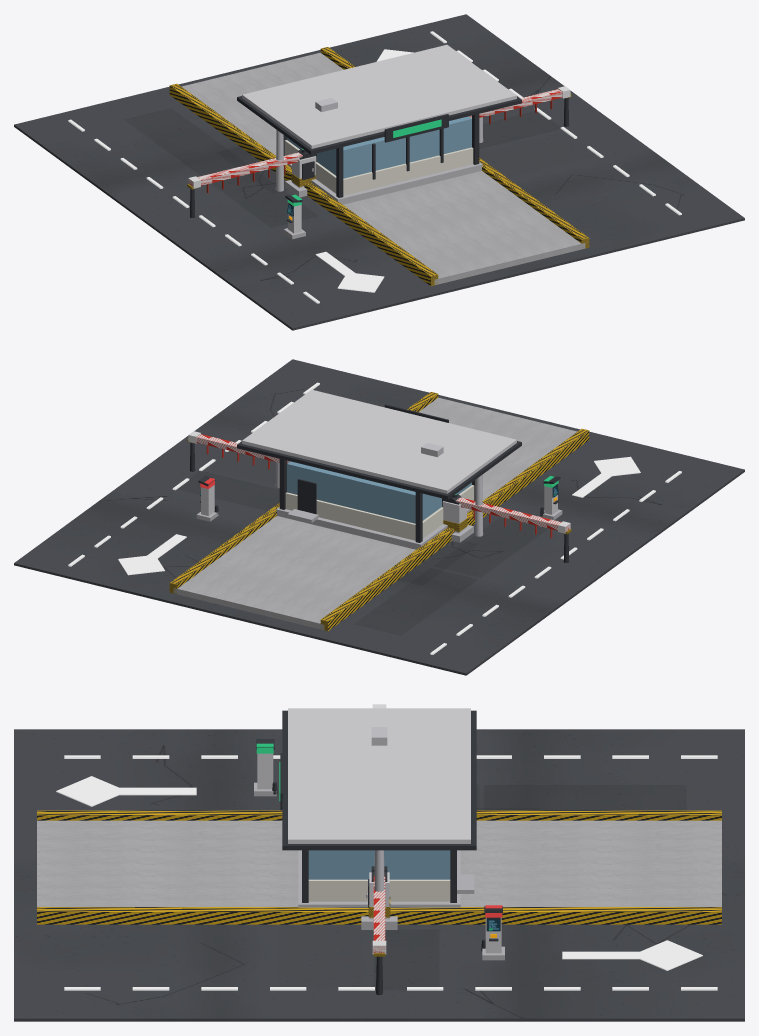
File: portaria-pack.glb
3 views of the same model, one above another, from view 1: azimuth 30°, elevation 25°; view 2: azimuth 150°, elevation 25°; view 3: azimuth 270°, elevation 25° (orthographic). The views are drawn at different scales.
Parts seen in each view (by area): view 1: object 1, object 2, object 8, object 3, object 7, object 6, object 5, object 12, object 4, object 13, object 9; view 2: object 1, object 2, object 8, object 3, object 6, object 7, object 12, object 5, object 4, object 13, object 9; view 3: object 1, object 2, object 8, object 3, object 12, object 7, object 6, object 5, object 4, object 13, object 9.
Part boxes in pixels (<box>): object 1: <box>14,14,744,330</box>; object 2: <box>181,52,585,284</box>; object 8: <box>242,44,516,233</box>; object 3: <box>169,47,589,285</box>; object 7: <box>190,96,568,222</box>; object 6: <box>287,116,471,178</box>; object 5: <box>284,140,473,195</box>; object 12: <box>68,31,681,303</box>; object 4: <box>283,162,482,239</box>; object 13: <box>188,89,562,186</box>; object 9: <box>275,98,483,191</box>; object 1: <box>14,359,744,675</box>; object 2: <box>173,397,577,630</box>; object 8: <box>201,389,557,533</box>; object 3: <box>169,392,589,630</box>; object 6: <box>287,461,471,523</box>; object 7: <box>190,404,568,562</box>; object 12: <box>68,382,681,654</box>; object 5: <box>285,485,474,540</box>; object 4: <box>196,507,562,549</box>; object 13: <box>196,434,570,531</box>; object 9: <box>275,443,483,536</box>; object 1: <box>14,729,744,1021</box>; object 2: <box>37,820,721,906</box>; object 8: <box>257,708,501,953</box>; object 3: <box>37,810,721,956</box>; object 12: <box>56,755,717,990</box>; object 7: <box>256,710,502,995</box>; object 6: <box>308,850,450,879</box>; object 5: <box>308,879,450,901</box>; object 4: <box>254,782,504,960</box>; object 13: <box>373,876,385,952</box>; object 9: <box>366,727,387,898</box>.
Bounding box in the file's own units: 30 × 5.35 × 32.
17 materials, 5 textured.
